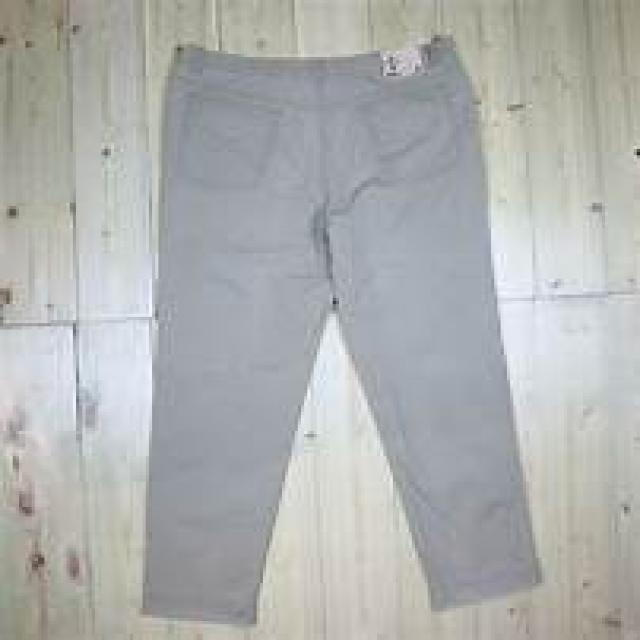long-pants: (142, 36, 546, 627)
